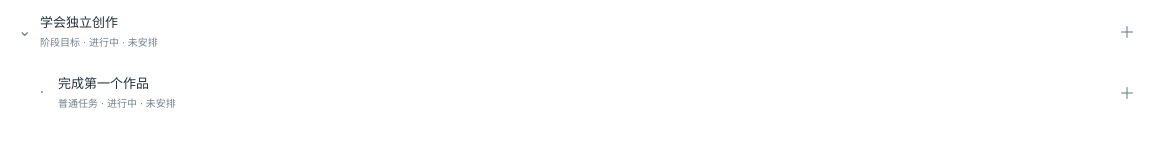
Test: GoalTree › selects nodes, adds children and collapses branches
Click the text "学会独立创作". click: click(79, 22)
box: x1=40 y1=15 x2=118 y2=30
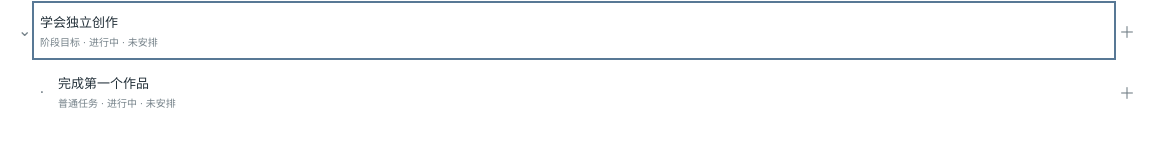
Click the button named "为学会独立创作添加子计划". click: click(1127, 30)
box: x1=1112 y1=16 x2=1142 y2=46
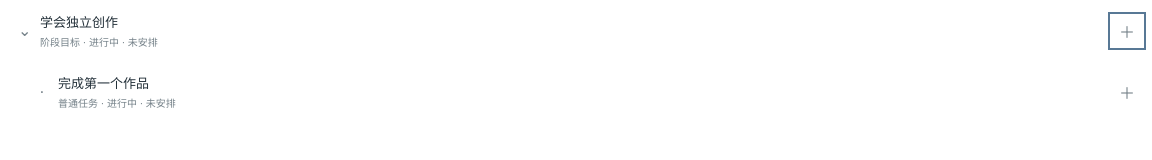
Click the button named "收起学会独立创作". click: click(24, 30)
box: x1=12 y1=16 x2=36 y2=46
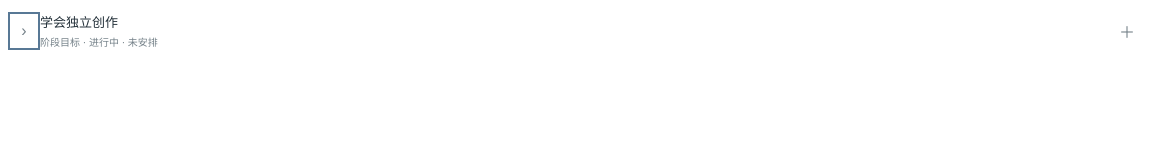
Result: the button "完成第一个作品" is gone
